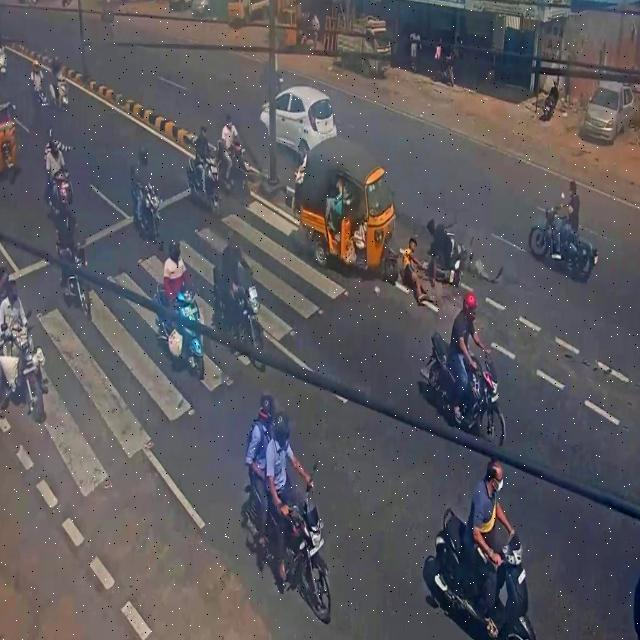accident: (293, 139, 507, 314)
